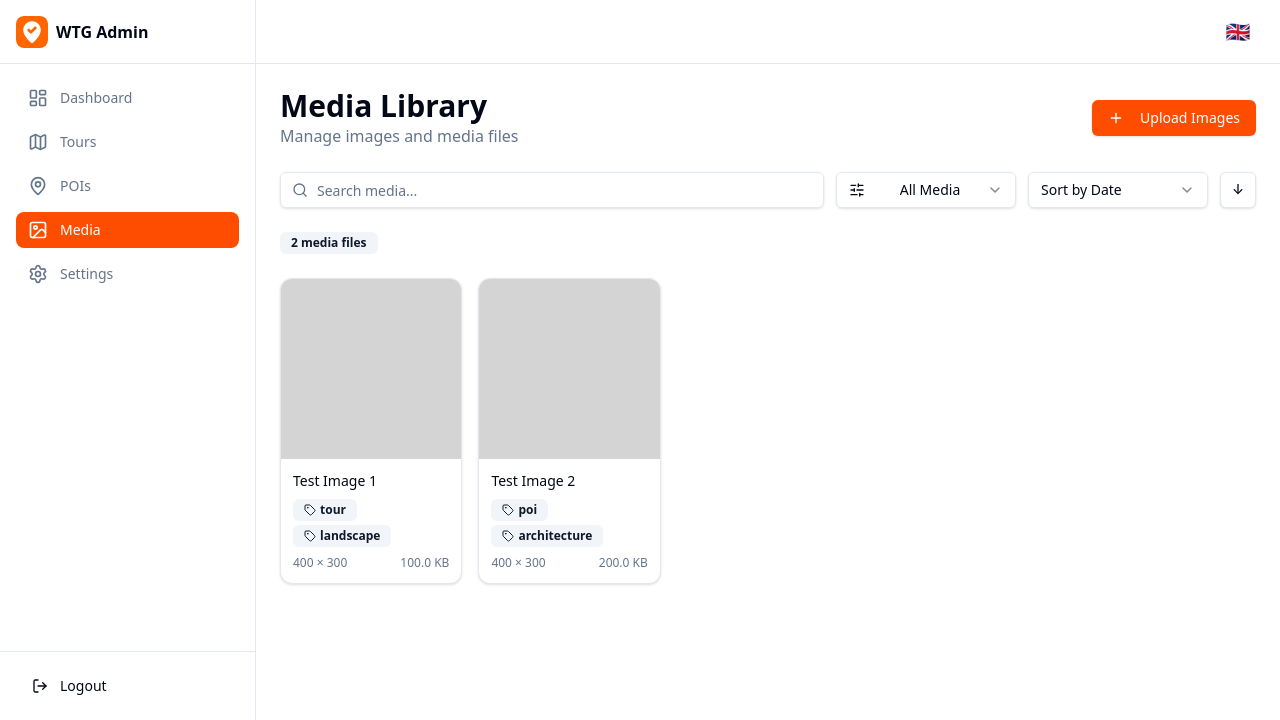
Test: Media Upload › Upload Dialog › should open upload dialog when clicking upload button
Click the button with test id "upload-button". click: (1174, 118)
box: [1092,100,1256,136]
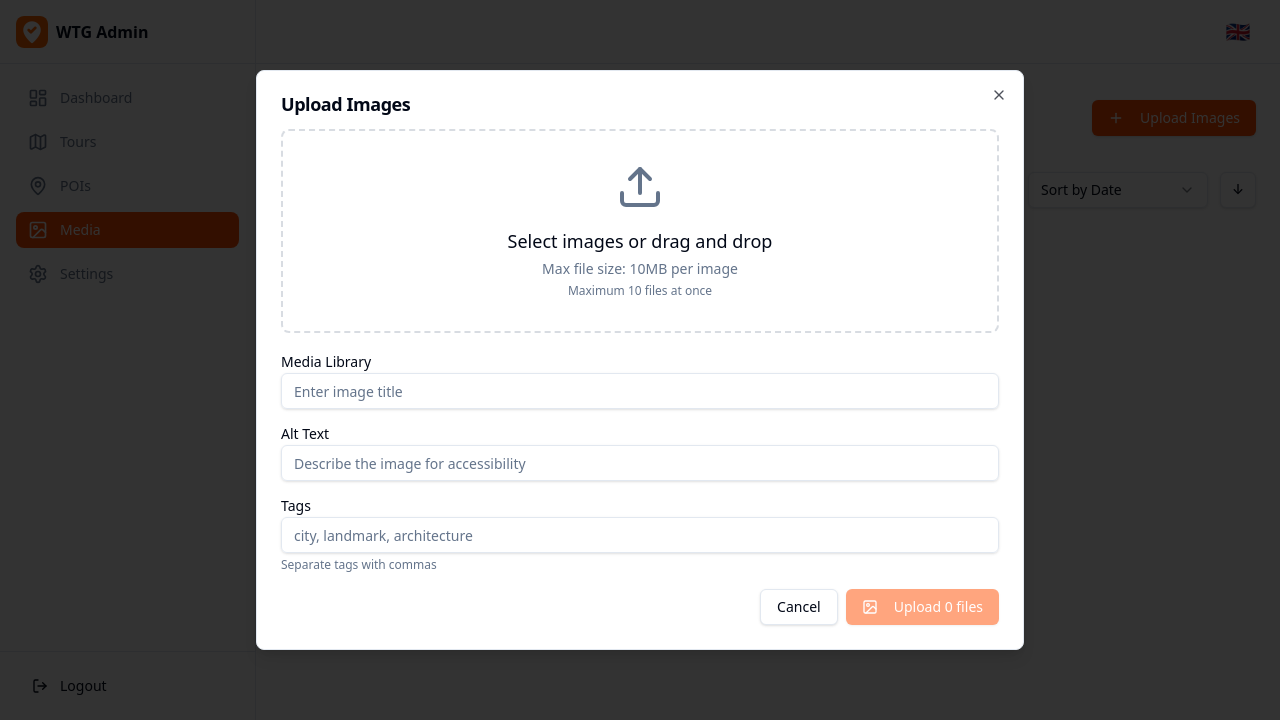
Expected: the dialog with test id "upload-dialog" is shown, [256,70,1024,650]
